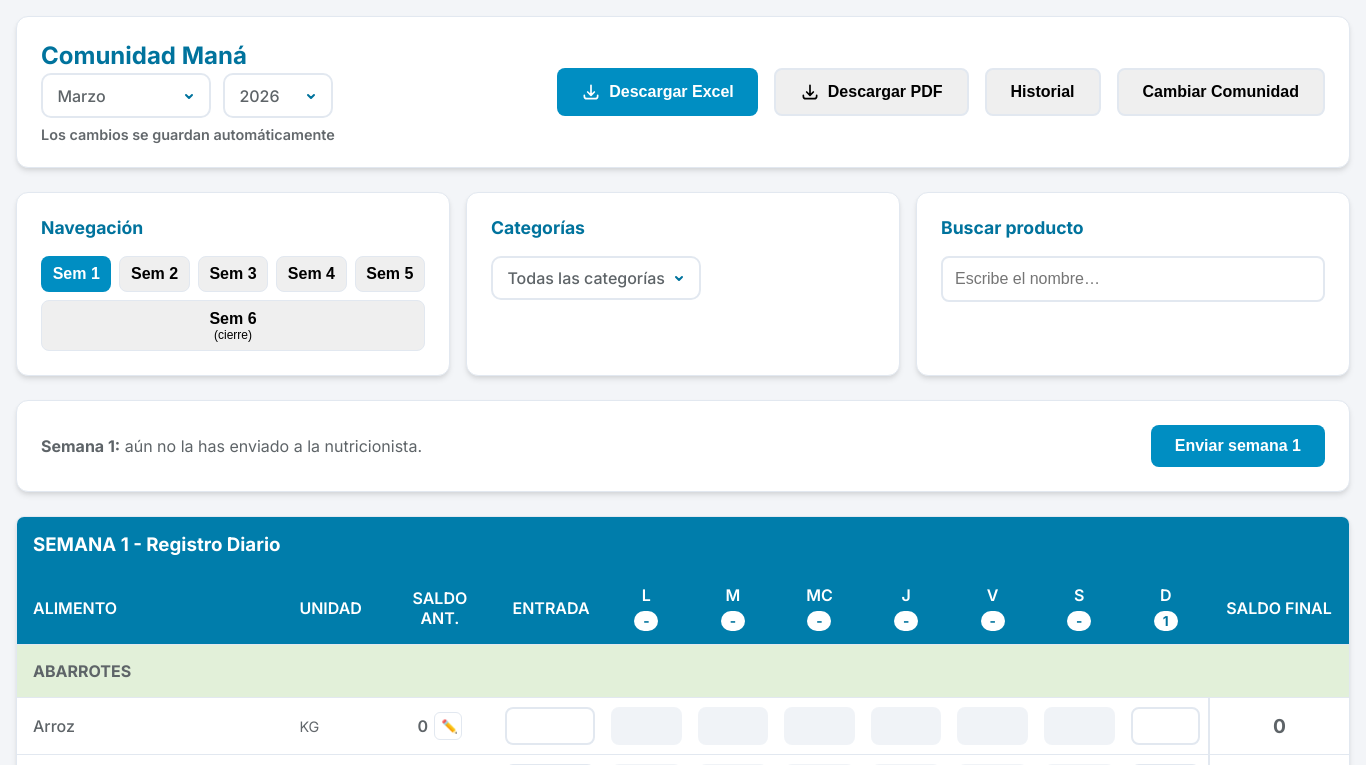
Test: kardex: buscador de productos › al escribir deja solo los productos que coinciden y cuenta los resultados
Type "ar" into the search field named "Buscar producto" at (1133, 279), box [941,256,1325,302]
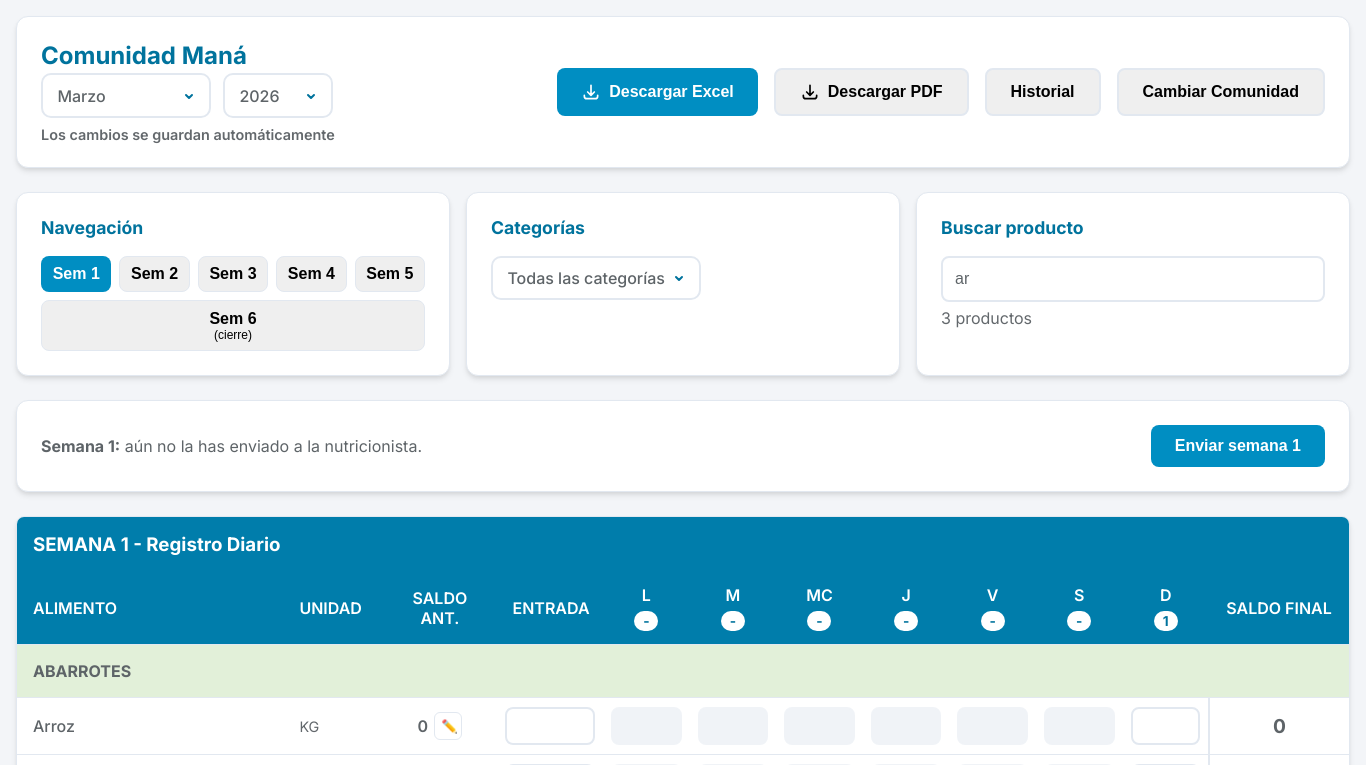
Expected: the text "3 productos" is shown, [941,308,1032,328]
Replace the text in the search field named "Buscar producto" with "arr" at (1133, 279), box [941,256,1325,302]
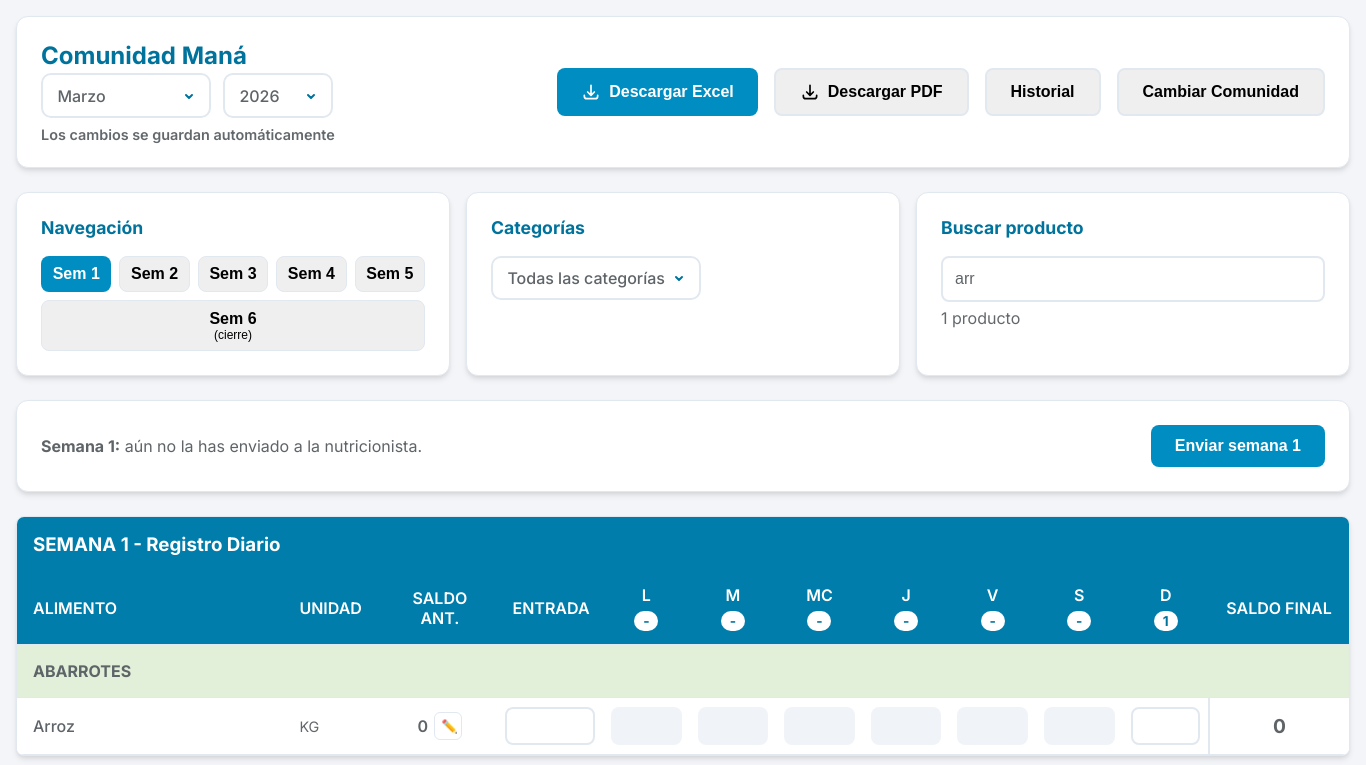
Expected: the text "1 producto" is shown, [941,308,1020,328]
